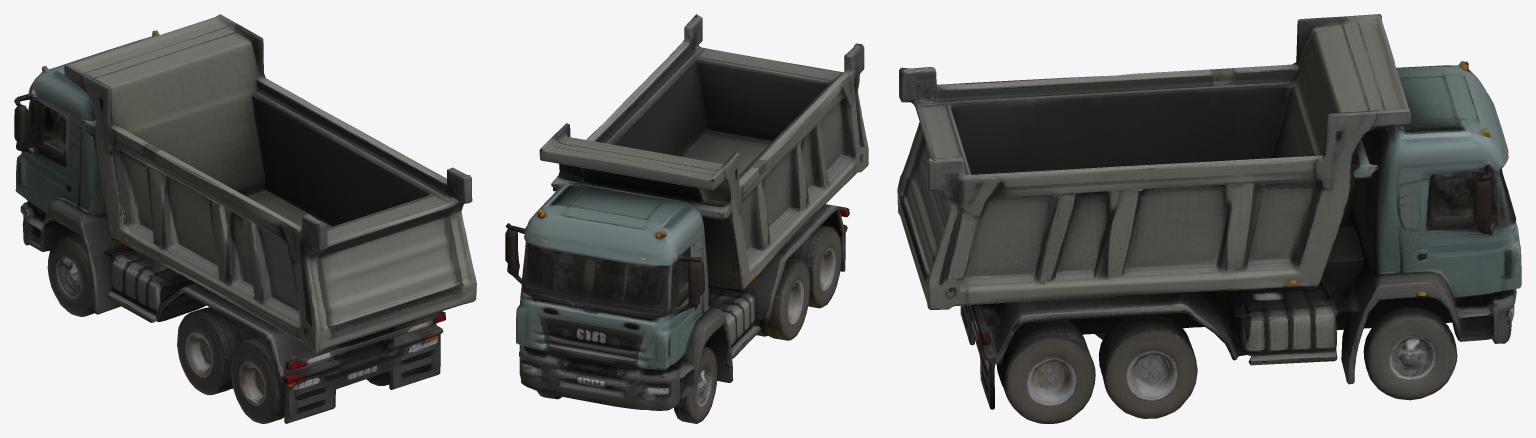
Rendered from Truck.gltf.
3 renders of one model, left to right at view 1: azimuth 30°, elevation 25°; view 2: azimuth 150°, elevation 25°; view 3: azimuth 270°, elevation 25°, orthographic. The views are drawn at different scales.
Visible parts, largest first — view 1: dump truck; view 2: dump truck; view 3: dump truck.
Part boxes in pixels (x1,y1,x2,y2): dump truck: [14, 14, 476, 423]; dump truck: [505, 14, 868, 423]; dump truck: [897, 14, 1521, 423].
Bounding box in the file's own units: 4.91 × 5.03 × 9.59.
Materials: 1 (1 with a texture image).
